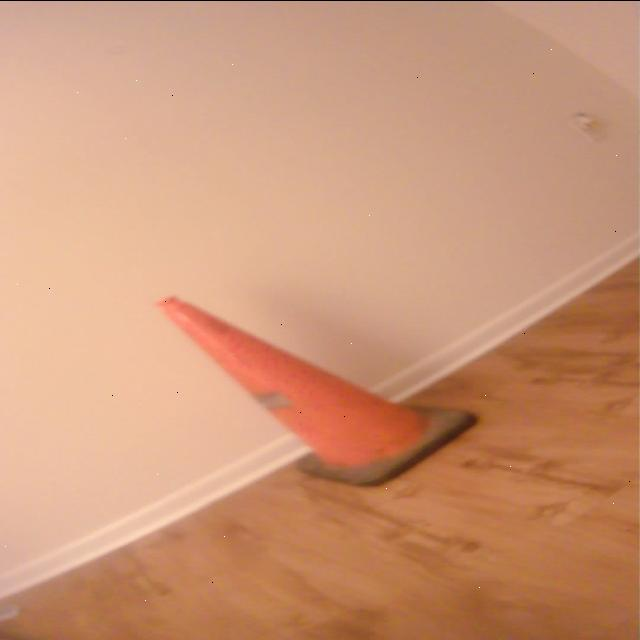traffic cone: (148, 293, 486, 492)
